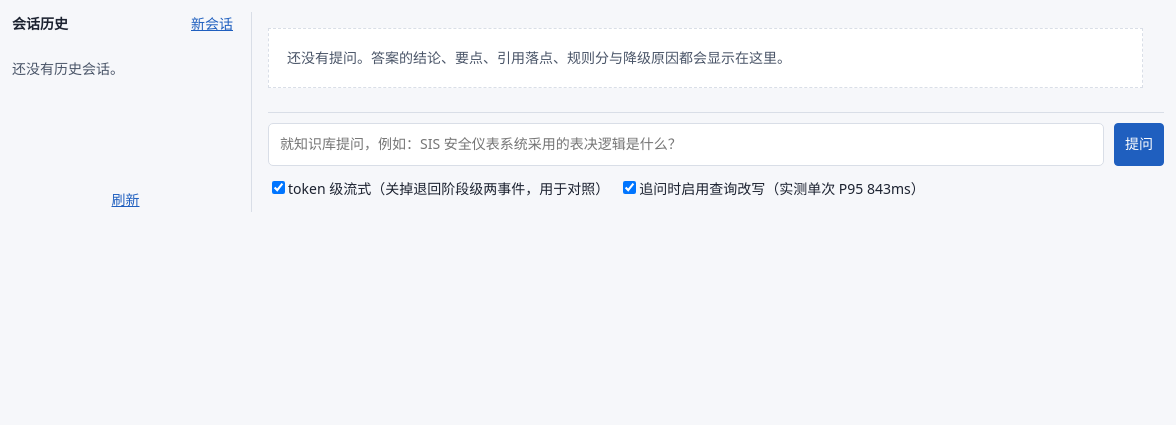
it: 问答页的三态渲染 › needs_human 与拒答都要显式可见；拒答时结论区不为空话
Type "表决逻辑是什么？" into the search field named "问题". click: [686, 145]
box: [268,123,1104,166]
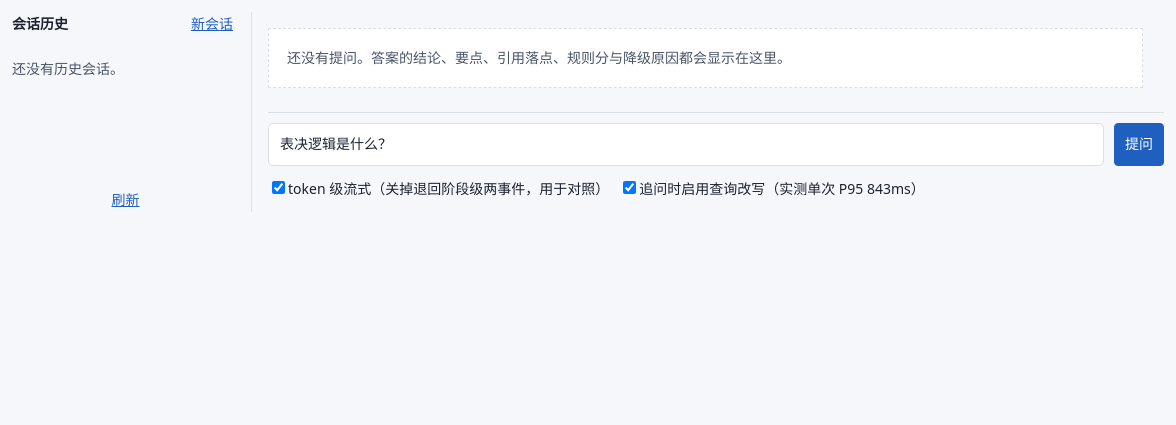
Click the button "提问". click: [1139, 145]
box: [1114,123,1164,166]
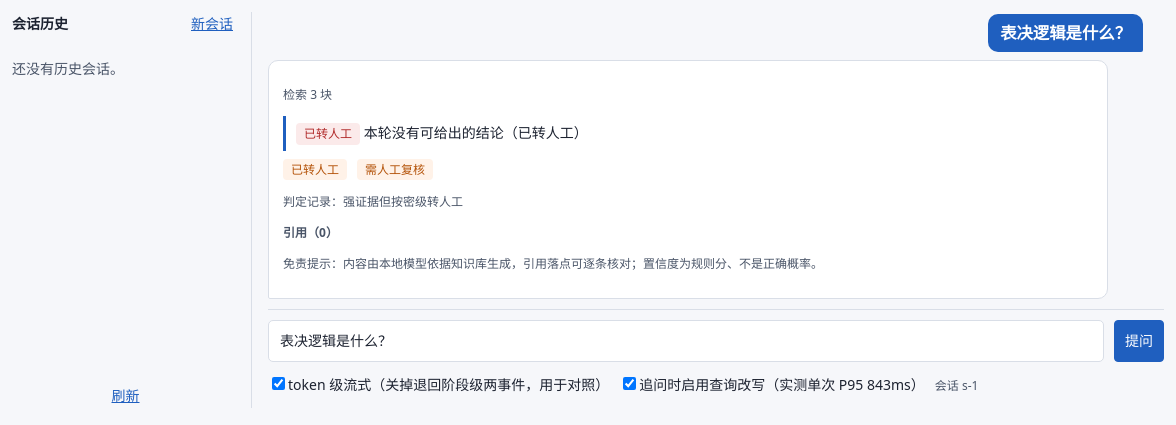
Expected: the text with test id "status-badge" reads "已转人工", [291,161,339,178]
Expected: the text with test id "needs-human" reads "需人工复核", [365,161,425,178]
Expected: the element with test id "no-conclusion" shows "本轮没有可给出的结论", [364,123,504,142]
